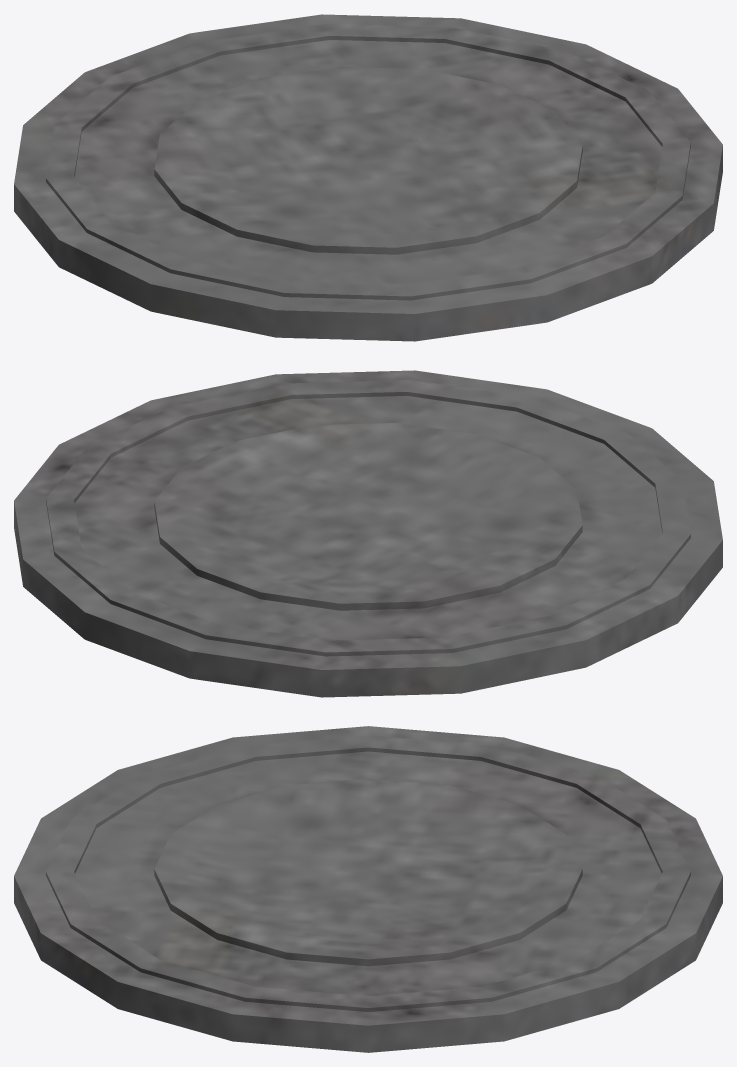
The model's file is manhole.glb.
3 renders of one model, top to bottom at view 1: azimuth 30°, elevation 25°; view 2: azimuth 150°, elevation 25°; view 3: azimuth 270°, elevation 25°, orthographic.
Parts seen in each view (by area): view 1: manhole; view 2: manhole; view 3: manhole.
Boxes of the visible parts, x1,y1,x2,y2 form: manhole: [14, 14, 722, 341]; manhole: [14, 370, 722, 697]; manhole: [14, 726, 722, 1052].
Bounding box in the file's own units: 1 × 0.0531 × 1.
Materials: 1 (1 with a texture image).
